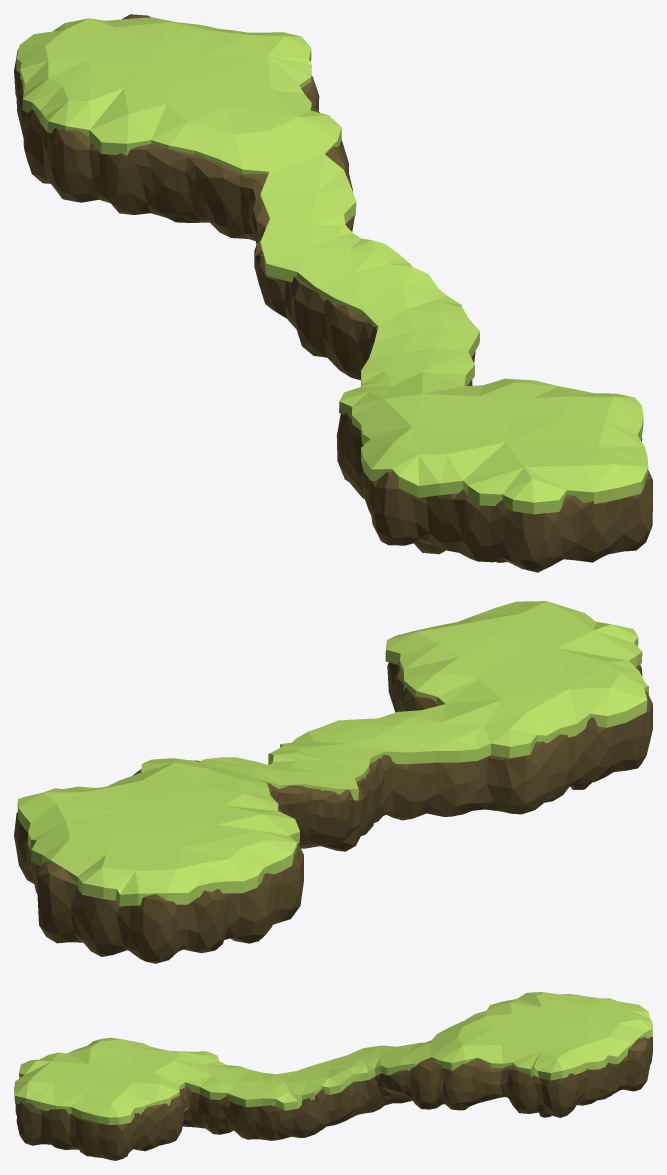
Rendered from island.fbx.
3 views of the same model, one above another, from view 1: azimuth 30°, elevation 25°; view 2: azimuth 150°, elevation 25°; view 3: azimuth 270°, elevation 25° (orthographic). The views are drawn at different scales.
Parts seen in each view (by area): view 1: islandGrass, IslandBase; view 2: islandGrass, IslandBase; view 3: islandGrass, IslandBase.
Part boxes in pixels (box(x1,y1,x2,y2)): islandGrass: box(16, 17, 648, 514); IslandBase: box(14, 14, 652, 572); islandGrass: box(17, 601, 648, 906); IslandBase: box(14, 662, 652, 963); islandGrass: box(14, 992, 652, 1124); IslandBase: box(15, 1036, 652, 1160).
Size of the model in its own units: 963 by 674 by 2906.
